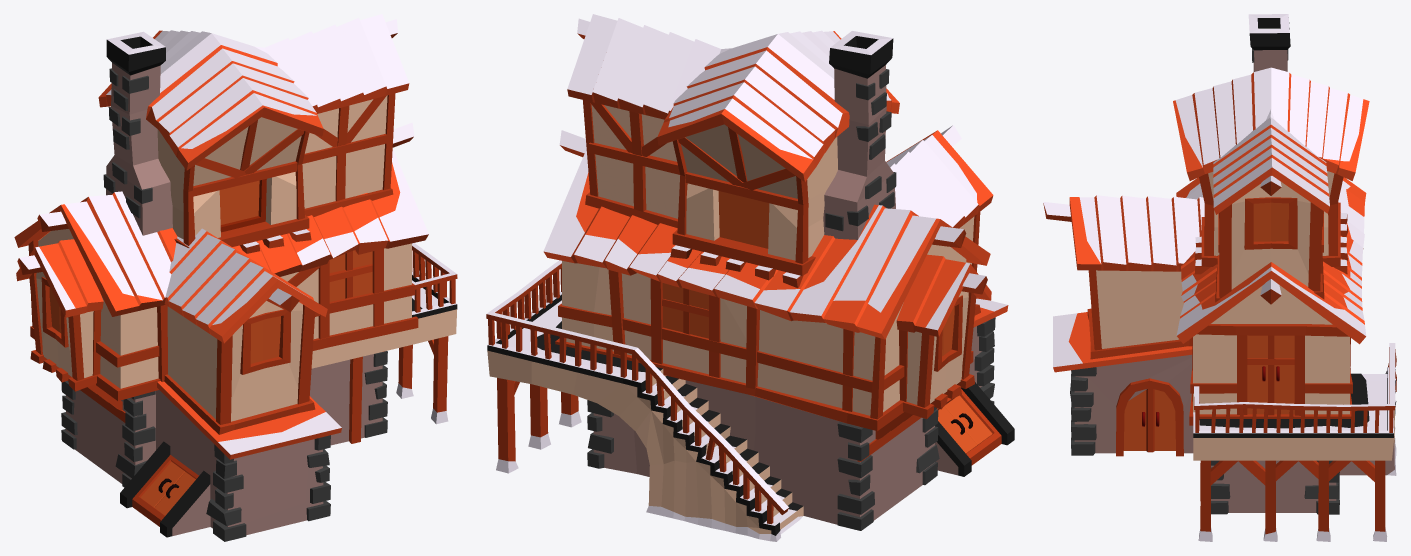
File: house1.glb
The picture shows the model from 3 angles, left to right: view 1: azimuth 30°, elevation 25°; view 2: azimuth 150°, elevation 25°; view 3: azimuth 270°, elevation 25°; orthographic projection. The views are drawn at different scales.
Parts seen in each view (by area): view 1: House1_Medieval_0; view 2: House1_Medieval_0; view 3: House1_Medieval_0.
Boxes of the visible parts, x1,y1,x2,y2 form: House1_Medieval_0: (14, 14, 457, 541); House1_Medieval_0: (486, 14, 1014, 541); House1_Medieval_0: (1043, 14, 1396, 541).
Size of the model in its own units: 7.31 by 7.37 by 6.01.
Materials: 1 (1 with a texture image).
